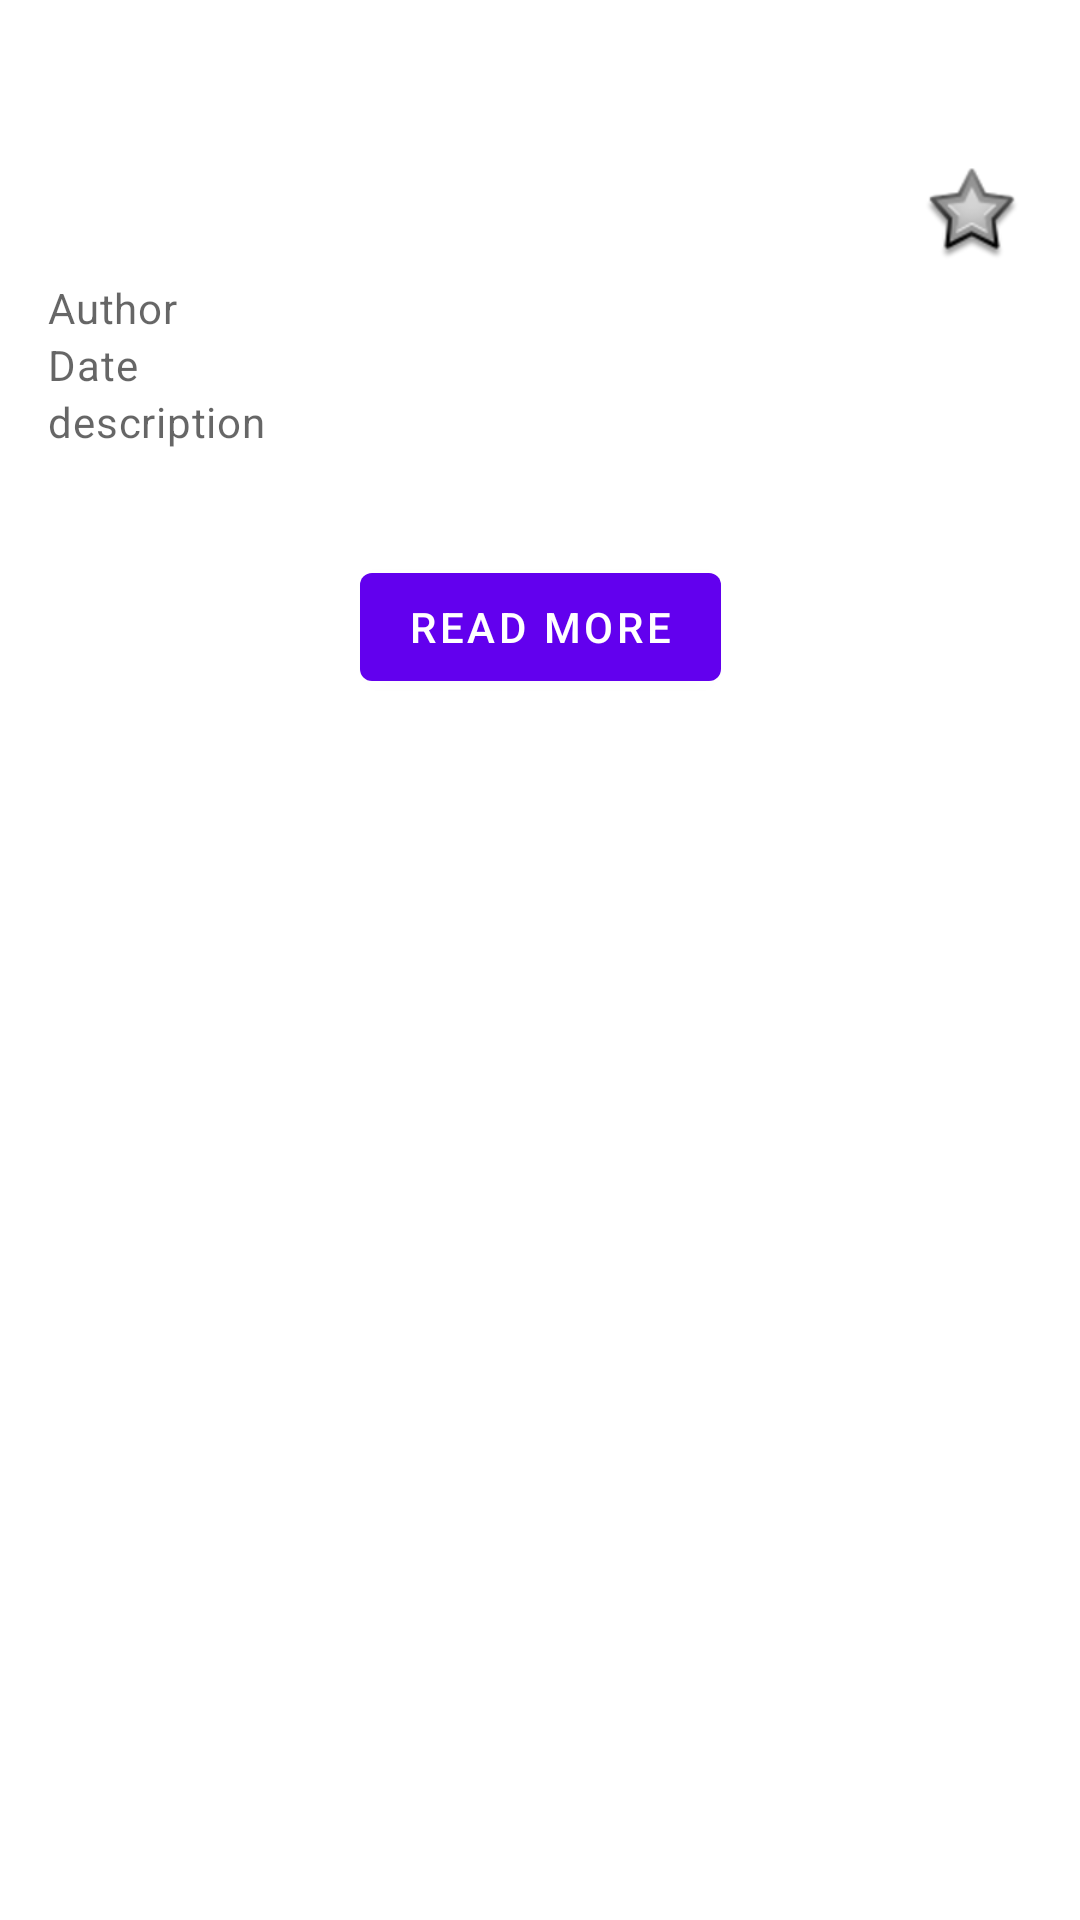

Icons on this 1080*1920 Android screen, each with the point to tap as (x,y):
star off: (972,211)
